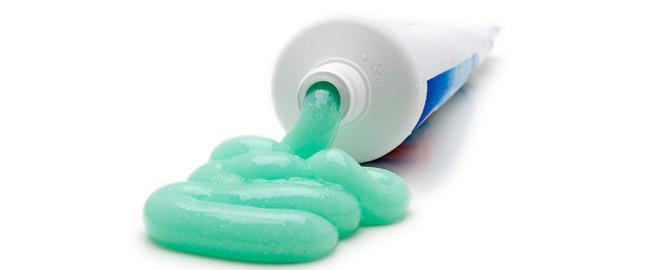toothpaste: (264, 0, 515, 165)
